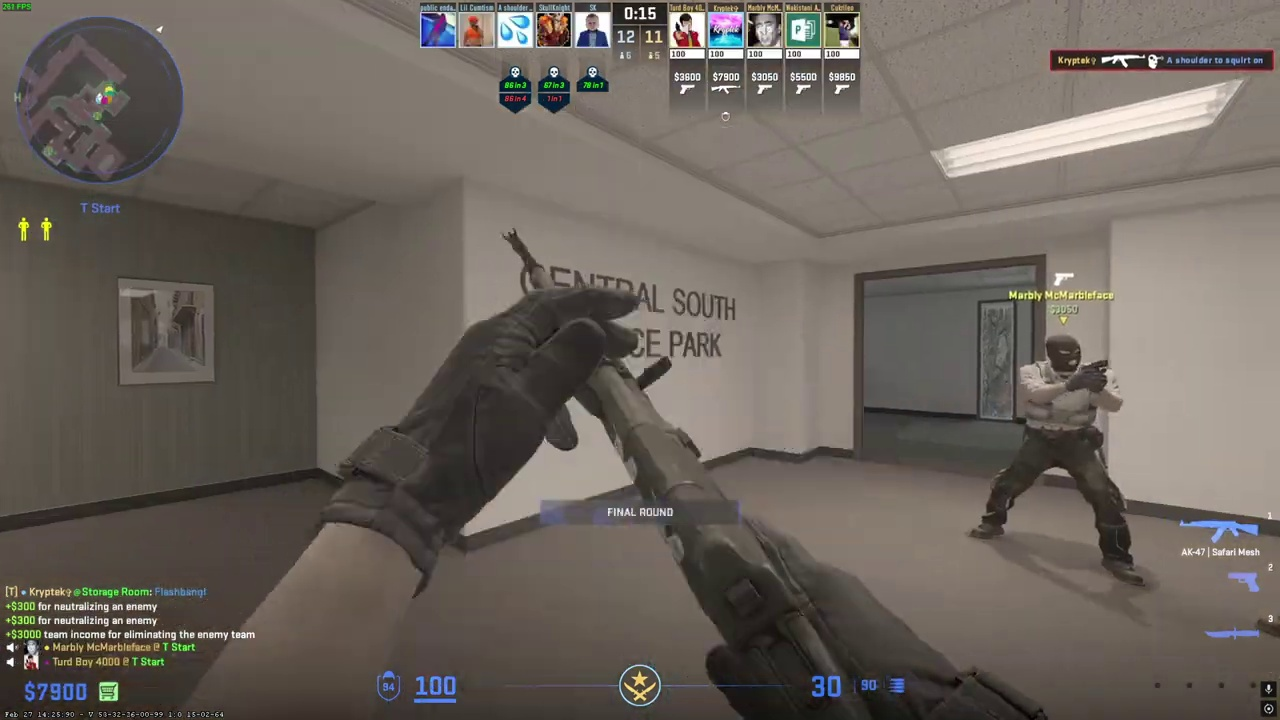Terrorist: (985, 334, 1145, 583)
